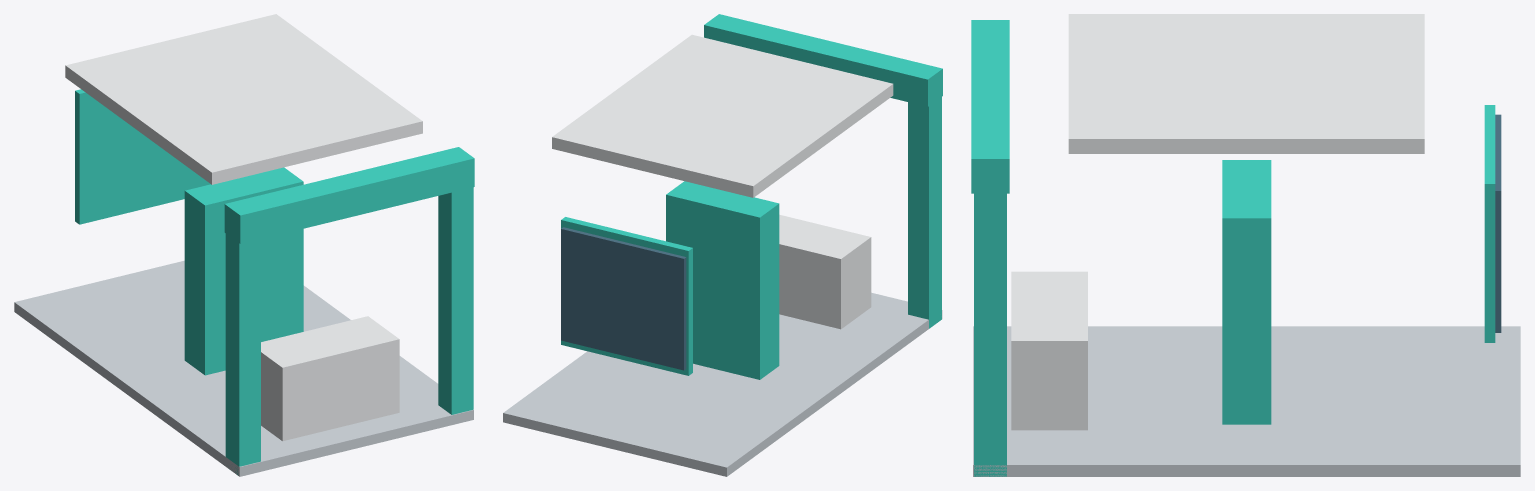
The picture shows the model from 3 angles, left to right: view 1: azimuth 30°, elevation 25°; view 2: azimuth 150°, elevation 25°; view 3: azimuth 270°, elevation 25°; orthographic projection. The views are drawn at different scales.
Parts seen in each view (by area): view 1: Exhibition Booth Concept; view 2: Exhibition Booth Concept; view 3: Exhibition Booth Concept.
Part boxes in pixels (<box>): Exhibition Booth Concept: <box>14,14,474,476</box>; Exhibition Booth Concept: <box>503,14,942,476</box>; Exhibition Booth Concept: <box>971,14,1520,476</box>.
Size of the model in its own units: 3 by 3.34 by 5.02.
